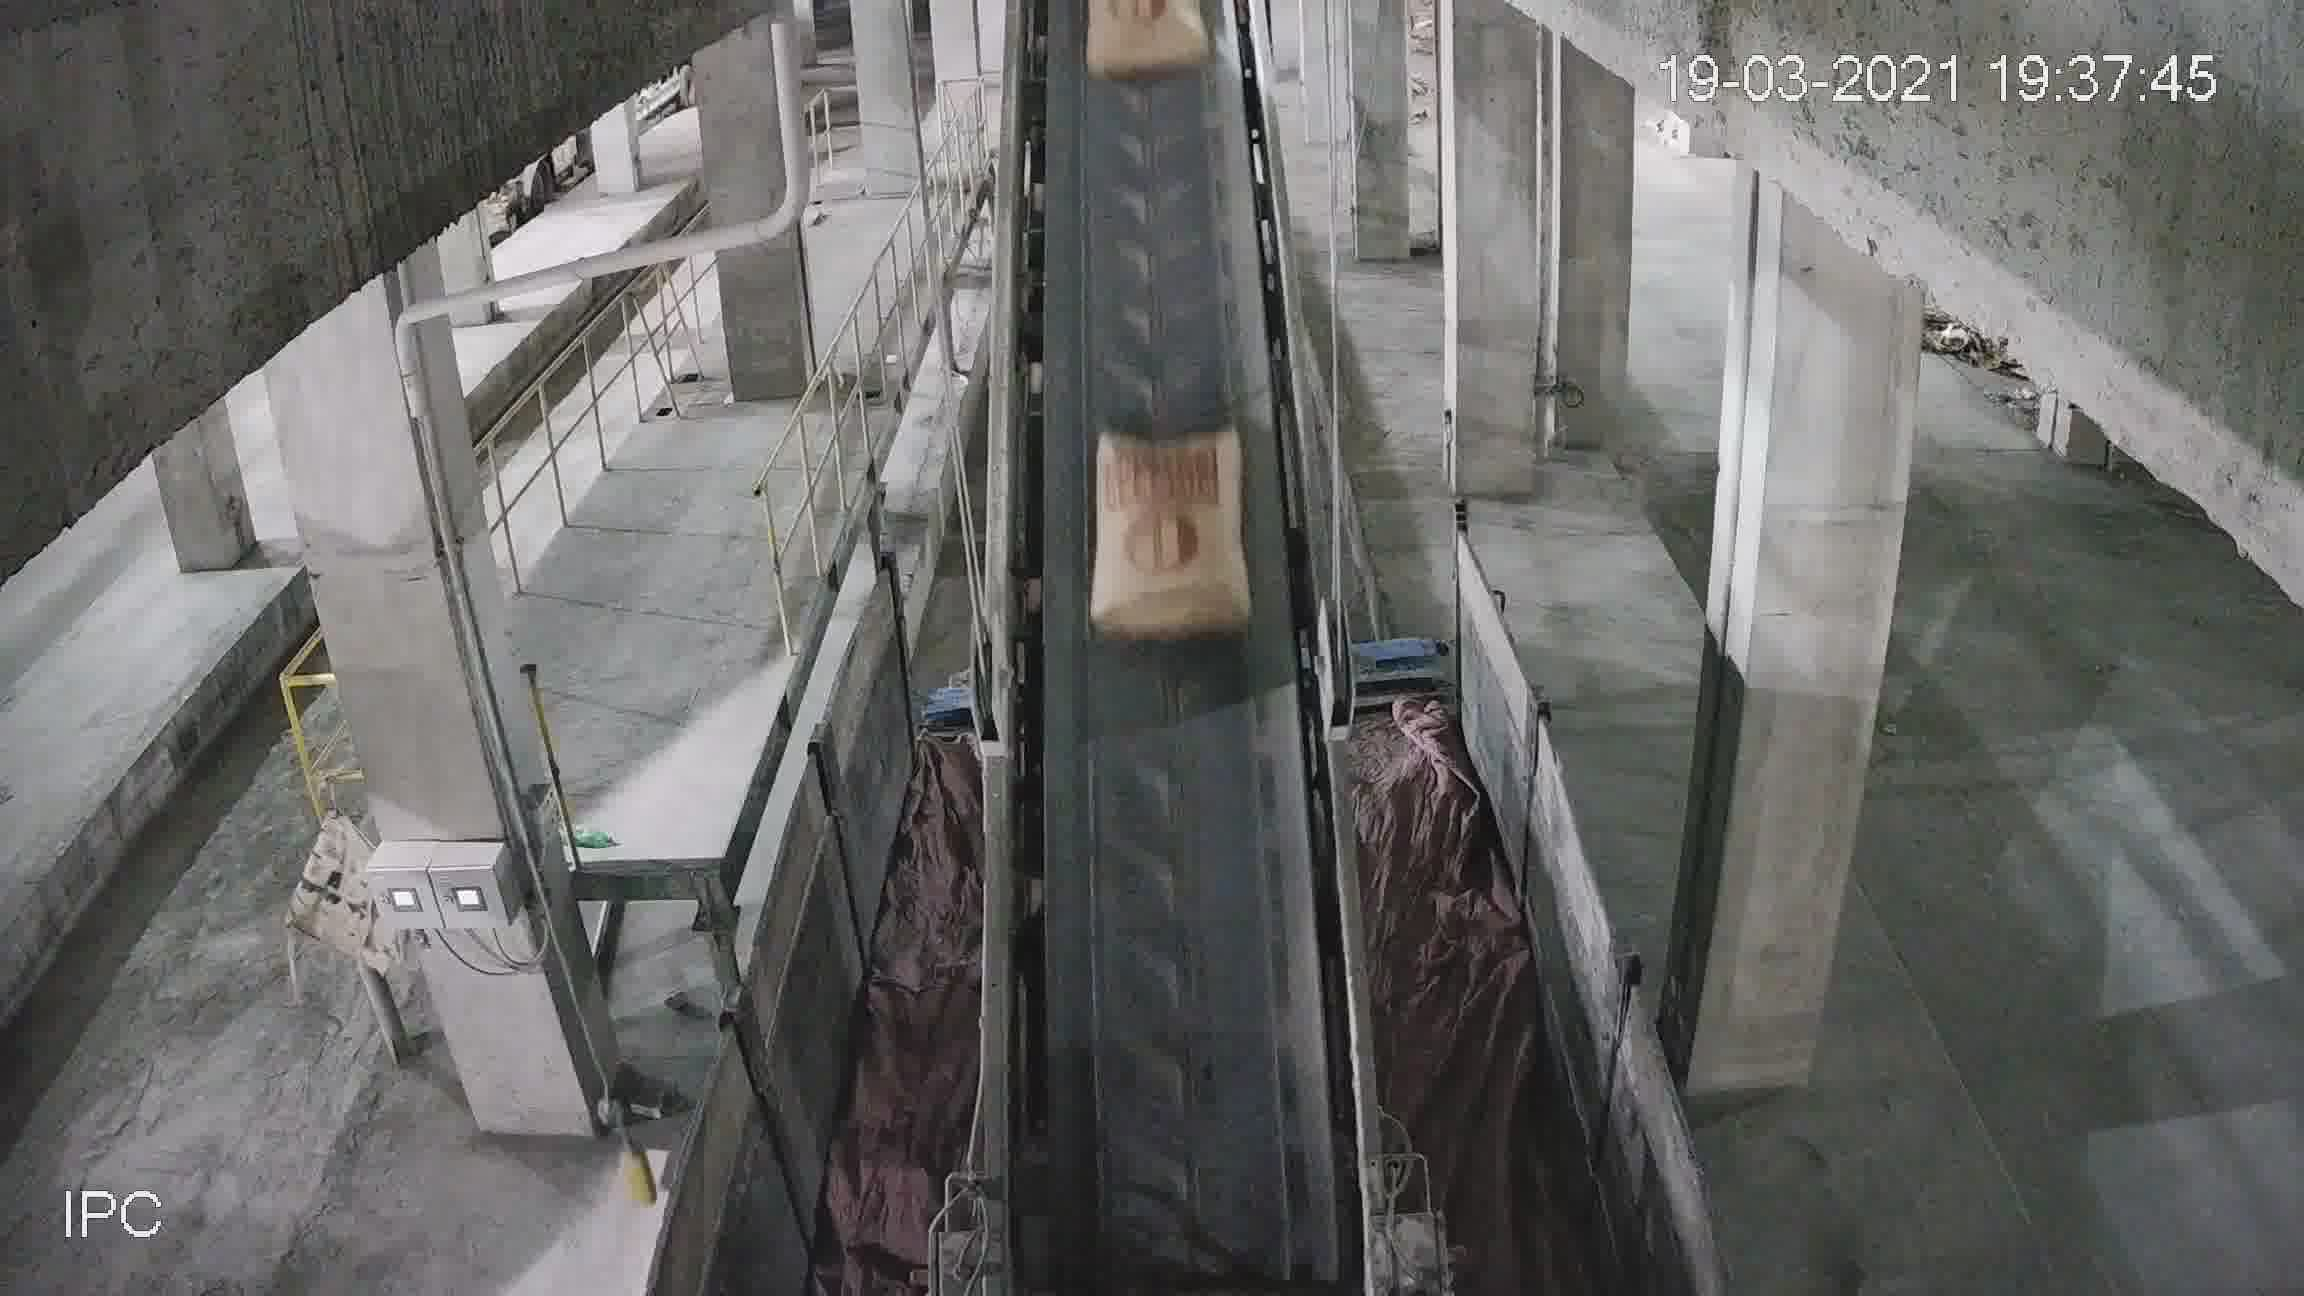bag: (1086, 435, 1249, 639), (1086, 5, 1217, 79)
belt: (968, 55, 1366, 1225)
